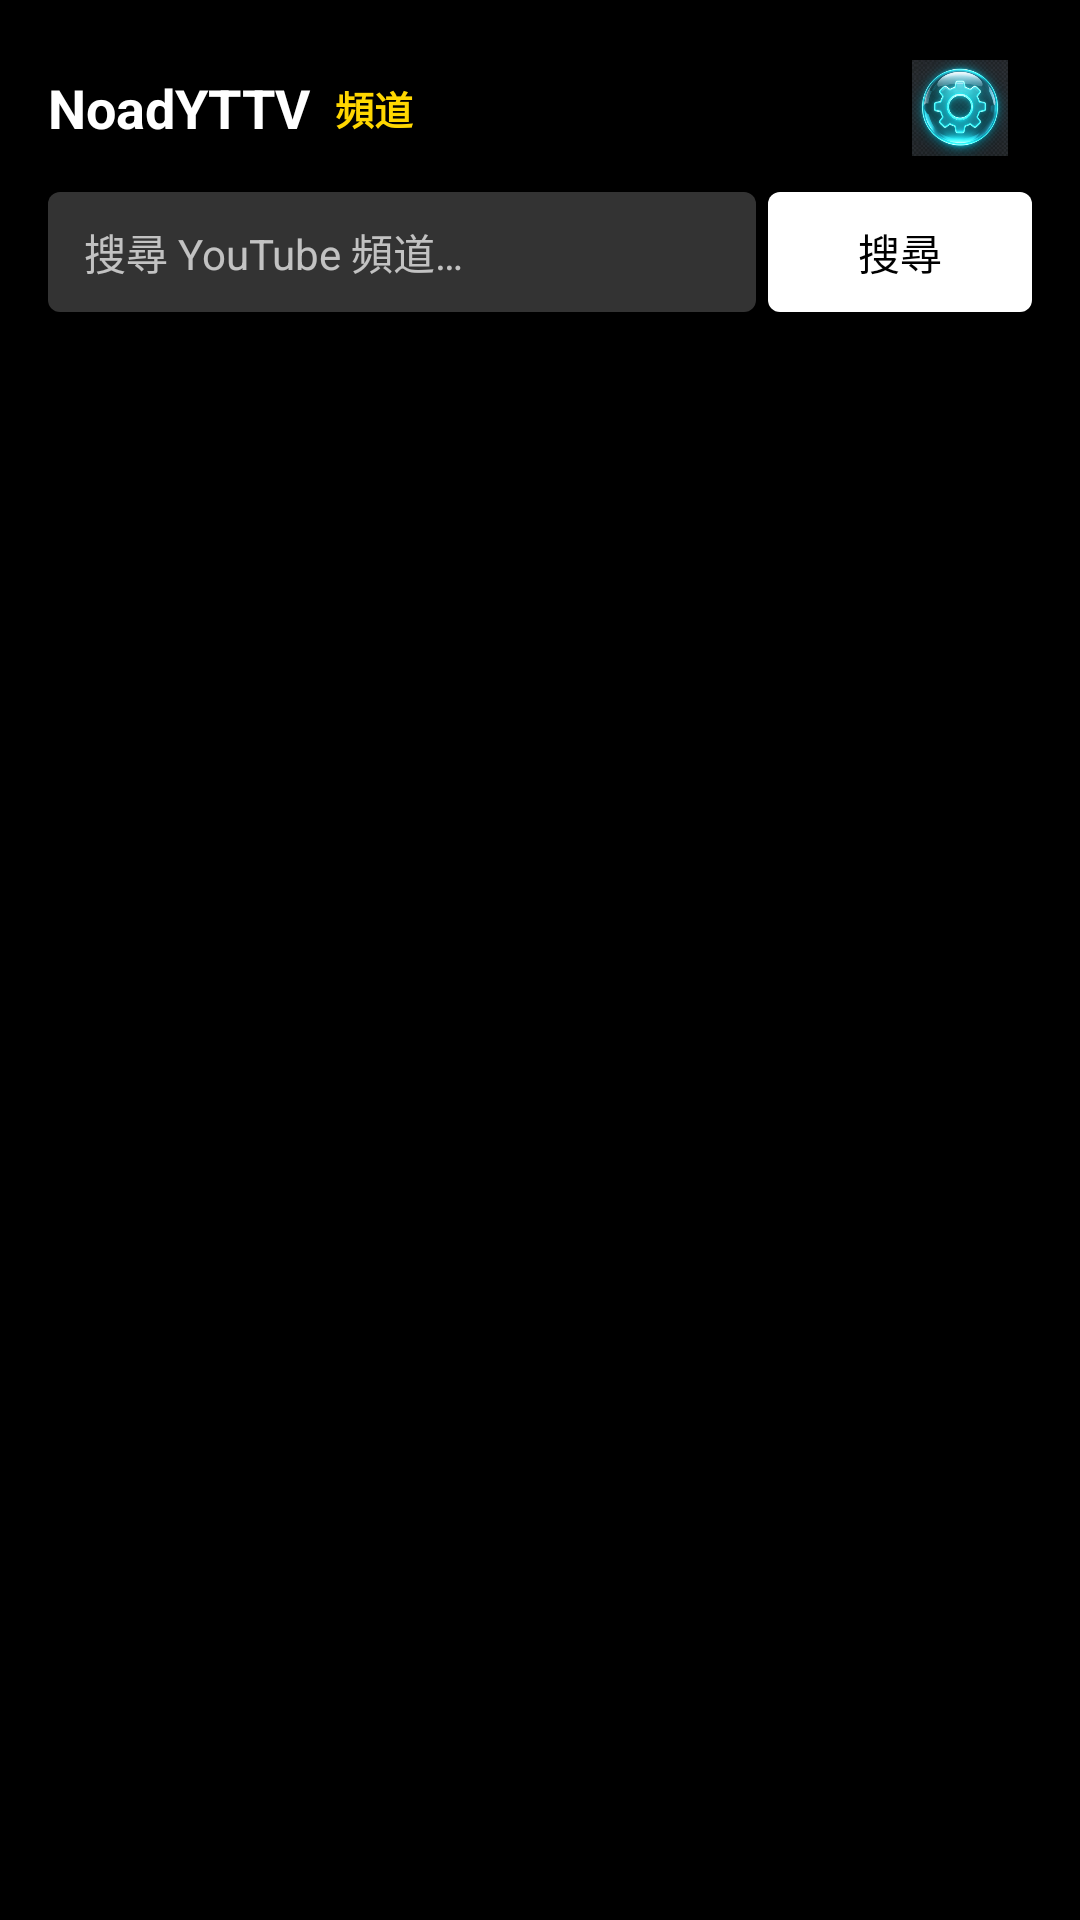

Icon click points for this 1080 × 1920 phone screenshot, format [x,y]:
設定: [960,108]
